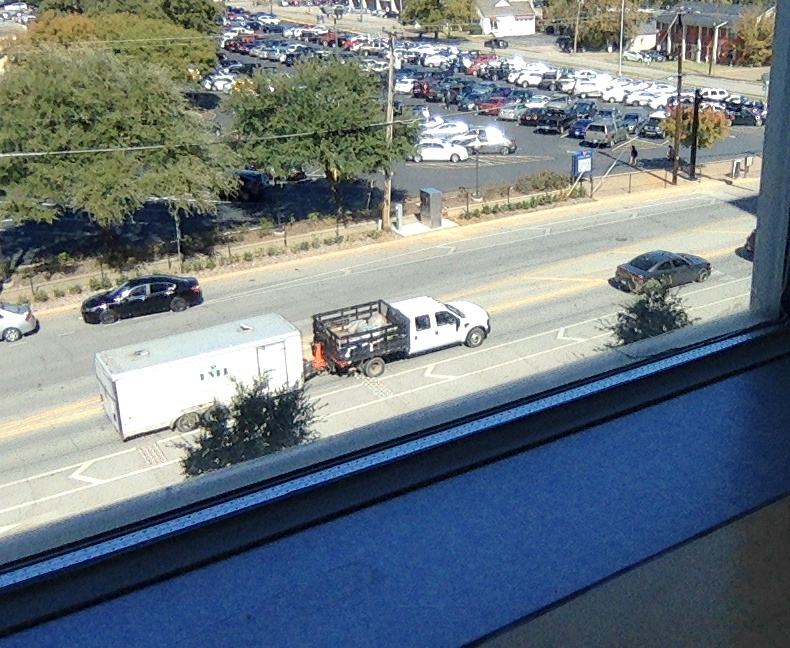car: (300, 300, 490, 384)
